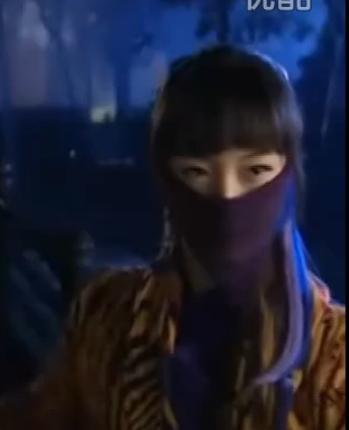WRONG: (165, 138, 289, 265)
